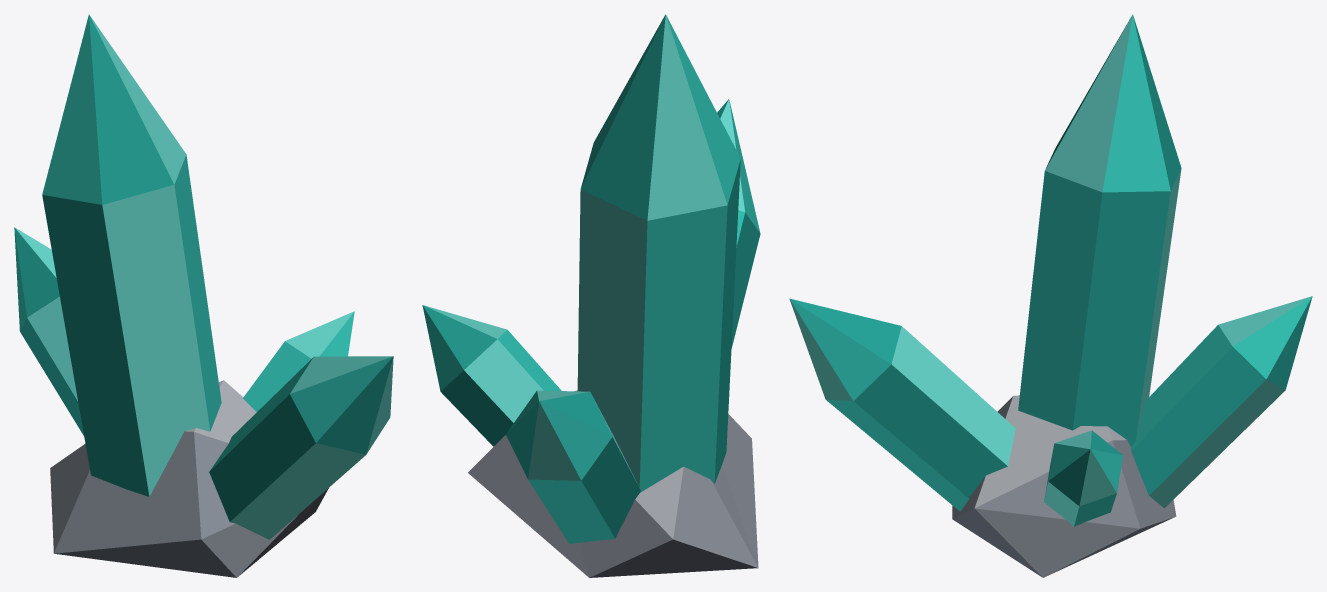
Rendered from crystal_s1.glb.
3 renders of one model, left to right at view 1: azimuth 30°, elevation 25°; view 2: azimuth 150°, elevation 25°; view 3: azimuth 270°, elevation 25°, orthographic. The views are drawn at different scales.
Visible parts, largest first — view 1: Body; view 2: Body; view 3: Body.
Part boxes in pixels (x1,y1,x2,y2): Body: [14, 14, 393, 577]; Body: [422, 14, 760, 577]; Body: [789, 14, 1312, 577].
Size of the model in its own units: 0.5324 by 0.8525 by 0.8393.
